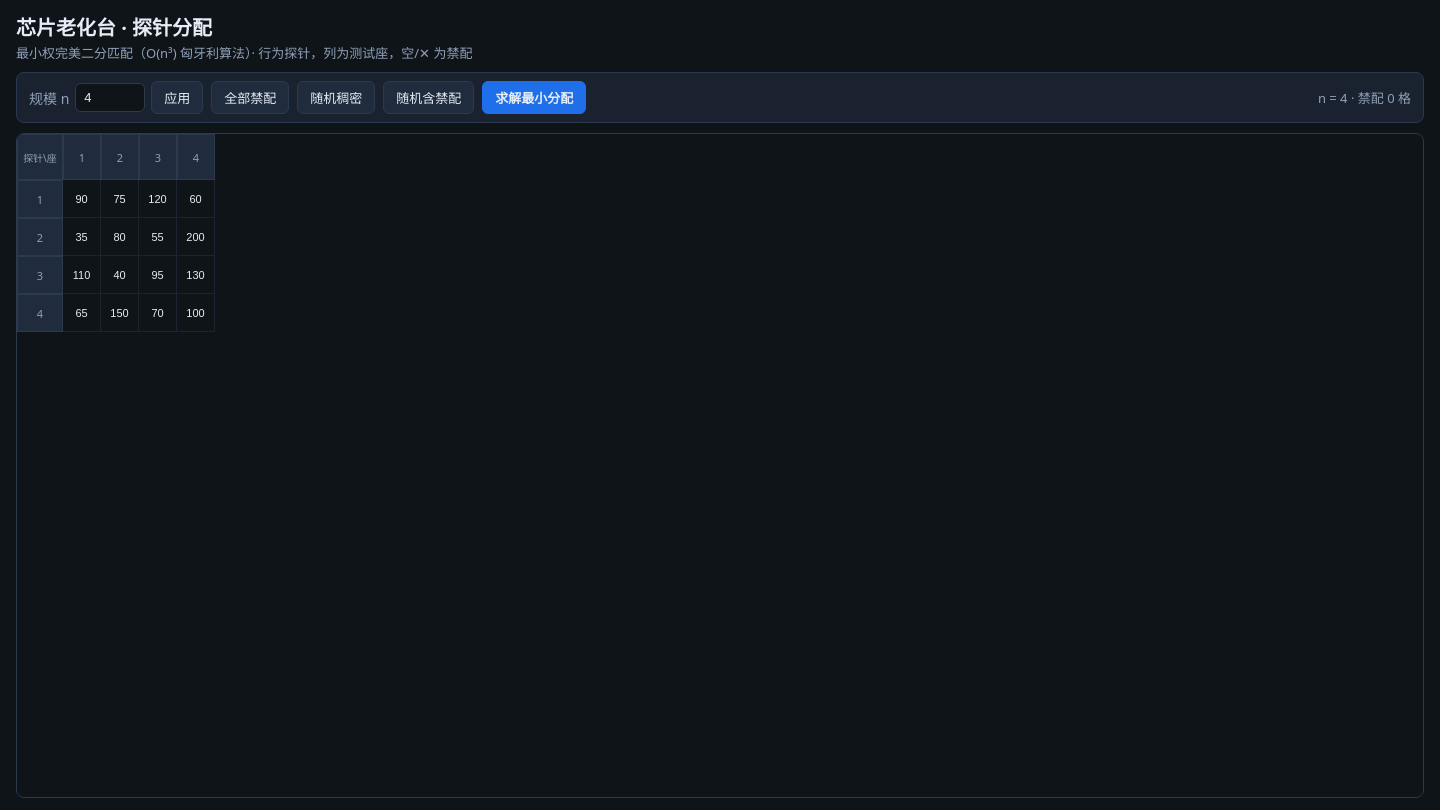
Test: App 页面：请求锁定 / 编辑清方案 / 排除重算 › 422 INVALID_INPUT：展示输入错误且无方案残留
What coordinates should you click on to do the following:
click the button "求解最小分配"
I would click on:
 (534, 98)
Its box is [482,81,586,114].
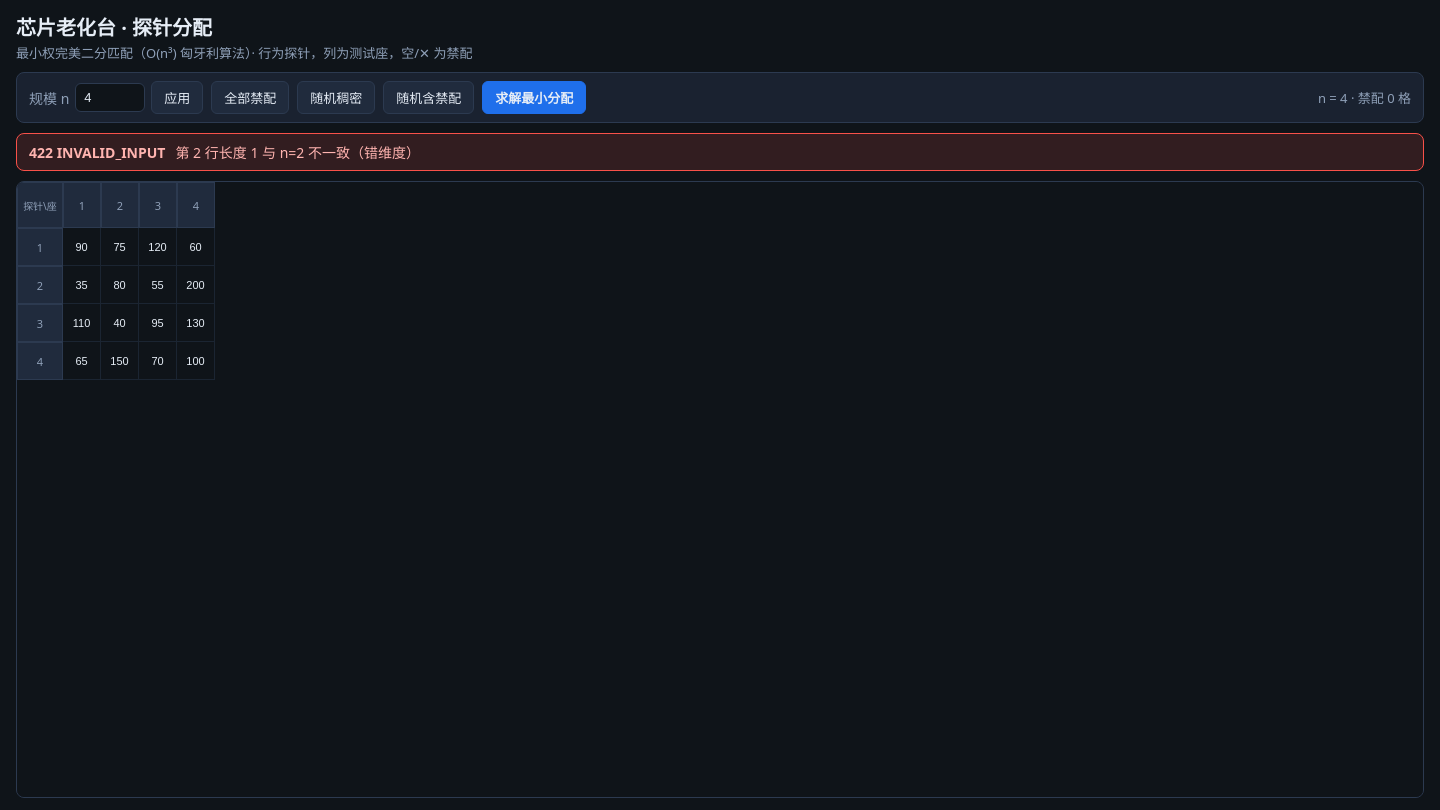
Now the text "422 INVALID_INPUT" is shown, box [29,142,166,162]
